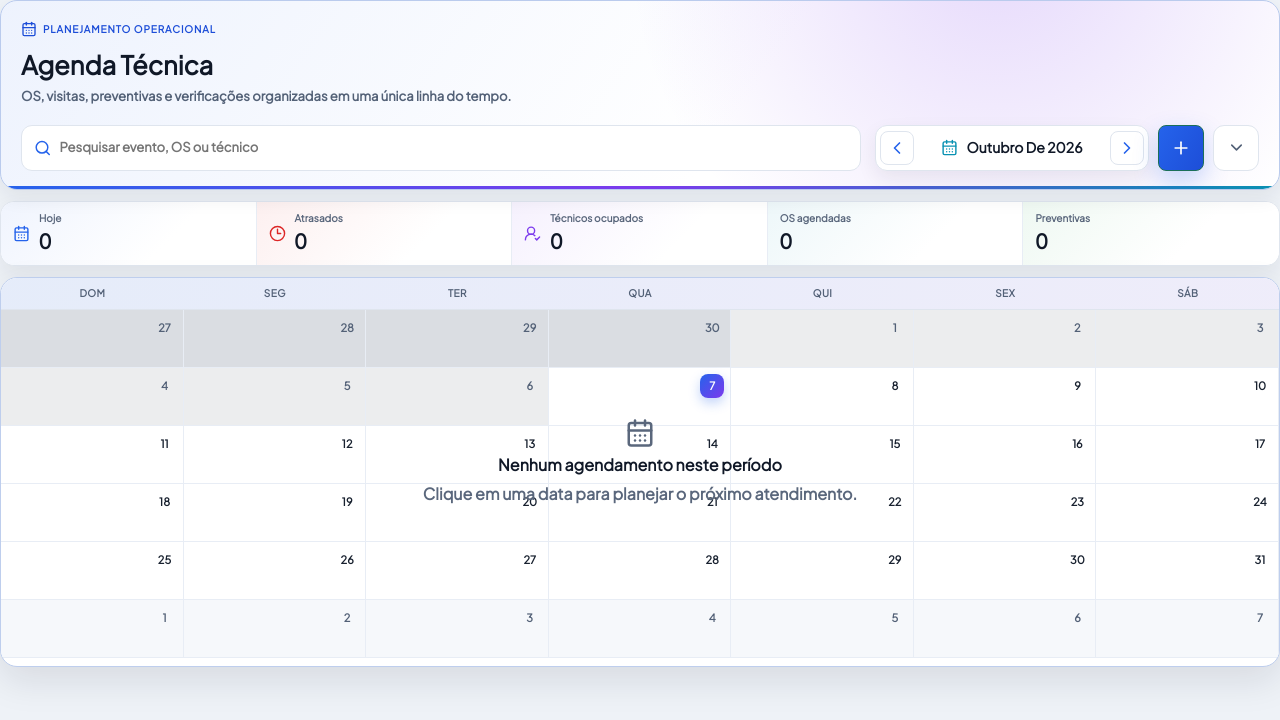
Test: TechnicalCalendarPage › mantém os filtros recolhidos e abre as opções pela seta
Step 1. Click the button named "Mostrar filtros" → [1236, 148], box [1213,125,1259,171]
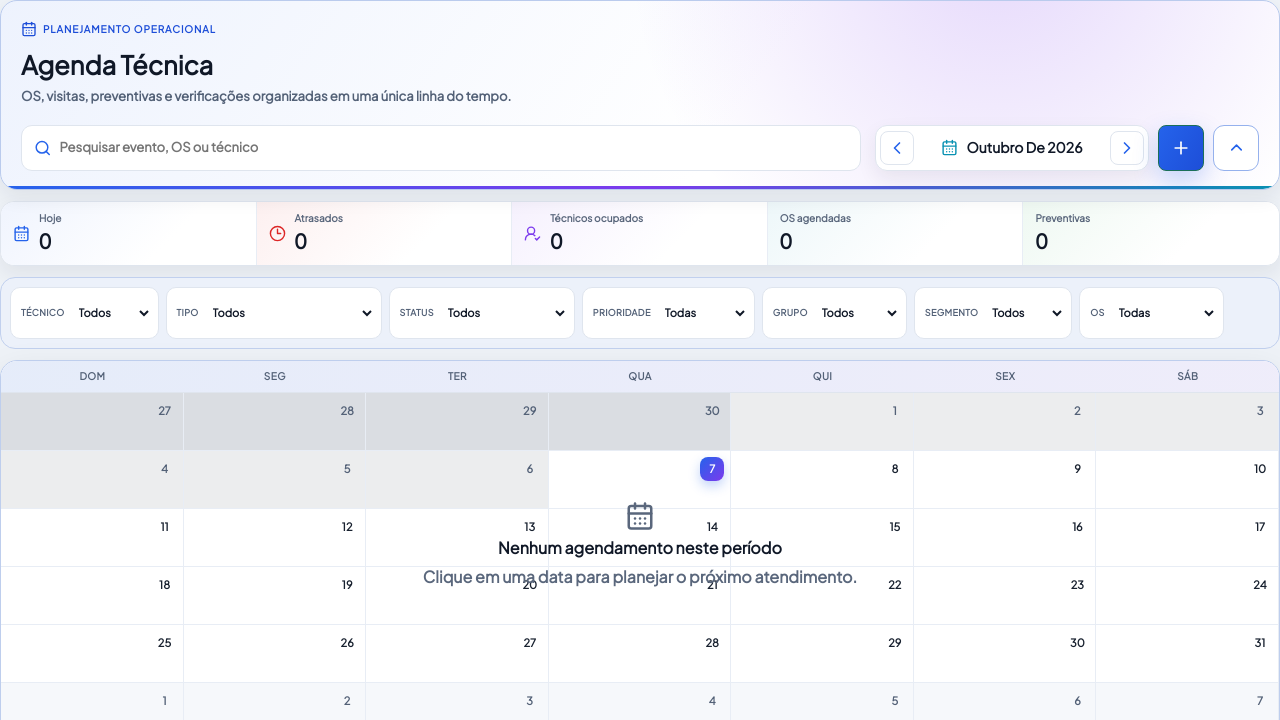
Now the dropdown named "Filtrar por técnico" is shown, box [70,292,152,334]
Step 2. Click the button named "Ocultar filtros" → [1236, 148], box [1213,125,1259,171]
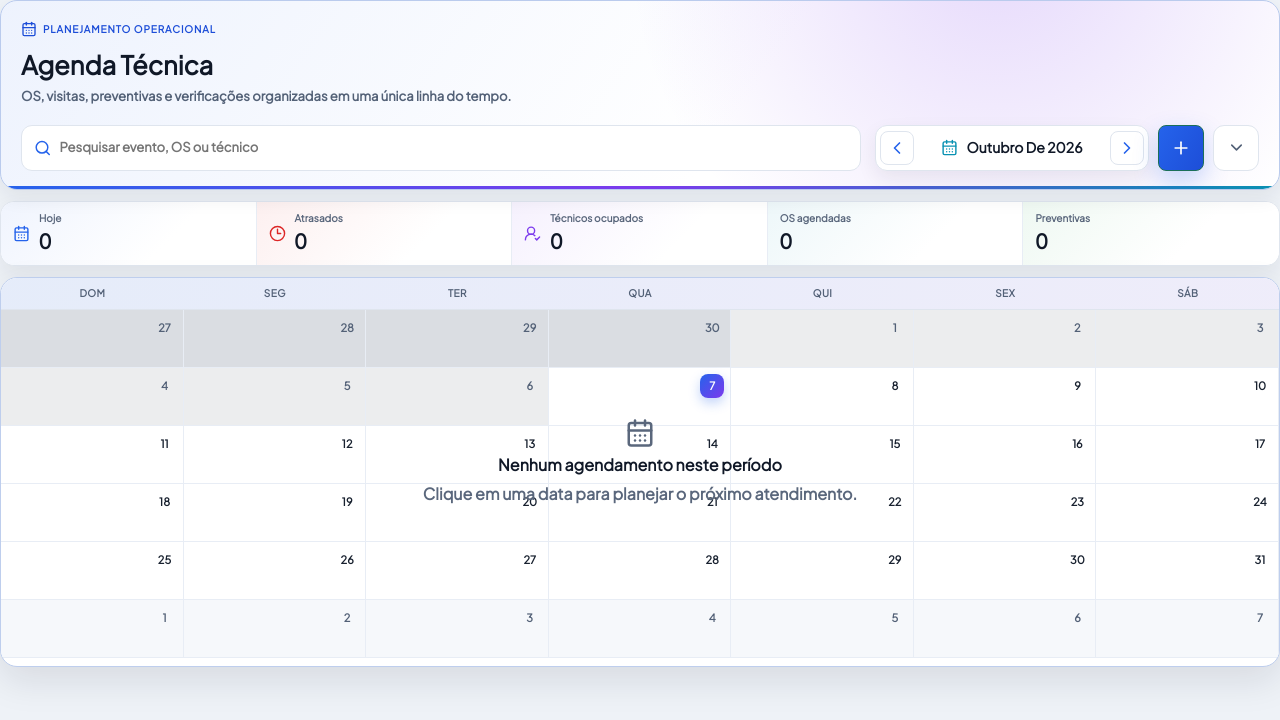
Now the dropdown labelled "Filtrar por técnico" is gone
